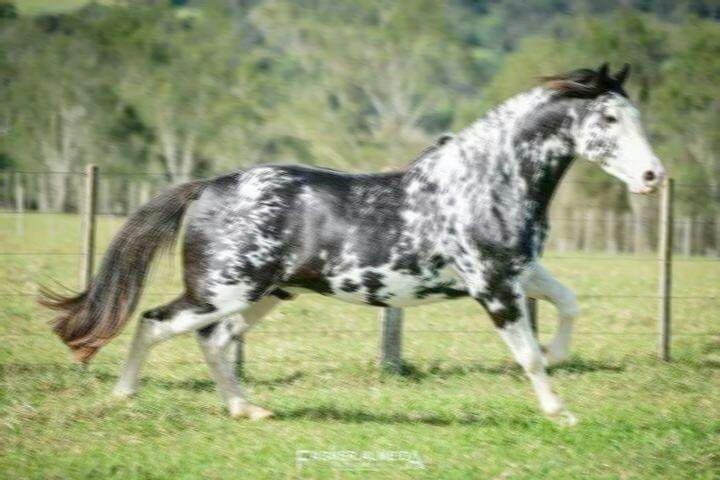horse: (34, 59, 666, 427)
